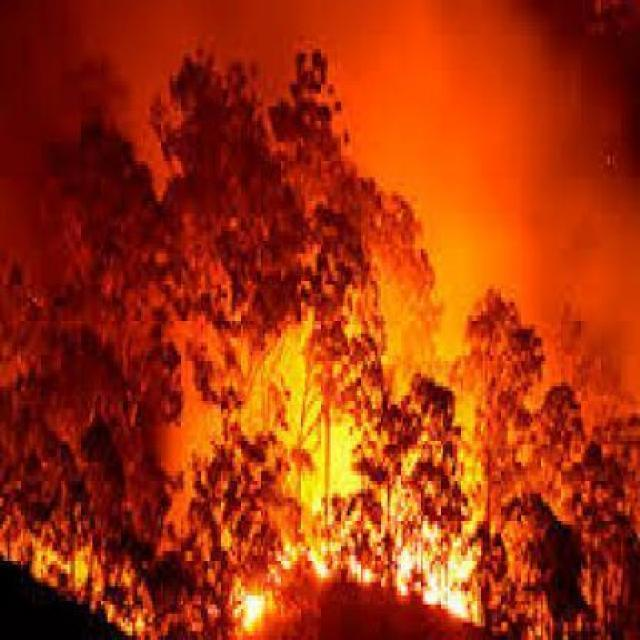Fire: (120, 471, 487, 640)
